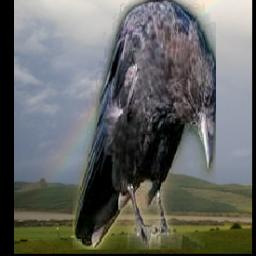Crow: (73, 0, 216, 250)
